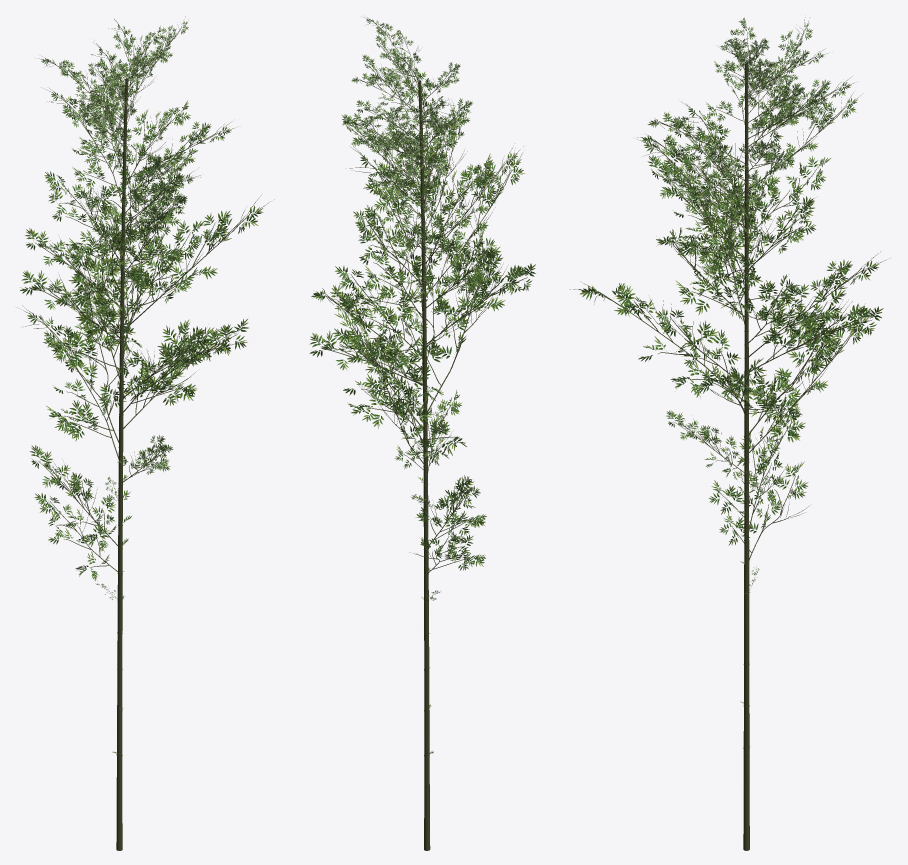
The model's file is Bambusbaum.fbx.
3 renders of one model, left to right at view 1: azimuth 30°, elevation 25°; view 2: azimuth 150°, elevation 25°; view 3: azimuth 270°, elevation 25°, orthographic. The views are drawn at different scales.
Parts seen in each view (by area): view 1: BambusBaum.013; view 2: BambusBaum.013; view 3: BambusBaum.013.
Boxes of the visible parts, bbox=[...] form: BambusBaum.013: bbox=[17, 16, 274, 850]; BambusBaum.013: bbox=[309, 17, 535, 850]; BambusBaum.013: bbox=[570, 17, 889, 850].
Bounding box in the file's own units: 10.31 × 36.1 × 12.65.
Materials: 7 (7 with a texture image).
